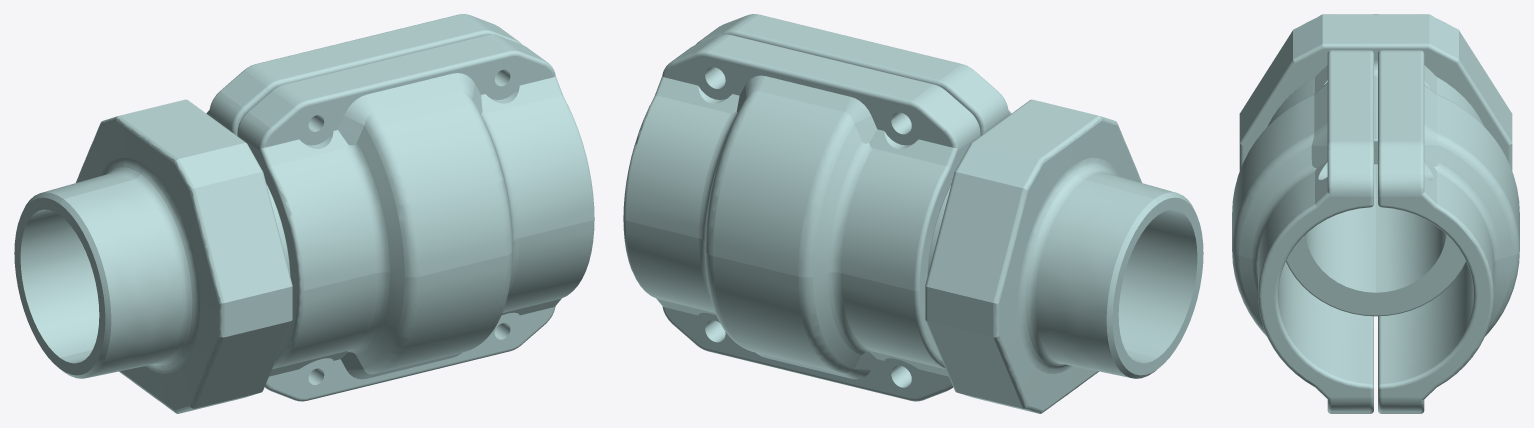
The picture shows the model from 3 angles, left to right: view 1: azimuth 30°, elevation 25°; view 2: azimuth 150°, elevation 25°; view 3: azimuth 270°, elevation 25°; orthographic projection. The views are drawn at different scales.
Size of the model in its own units: 126 by 77 by 74.3.
